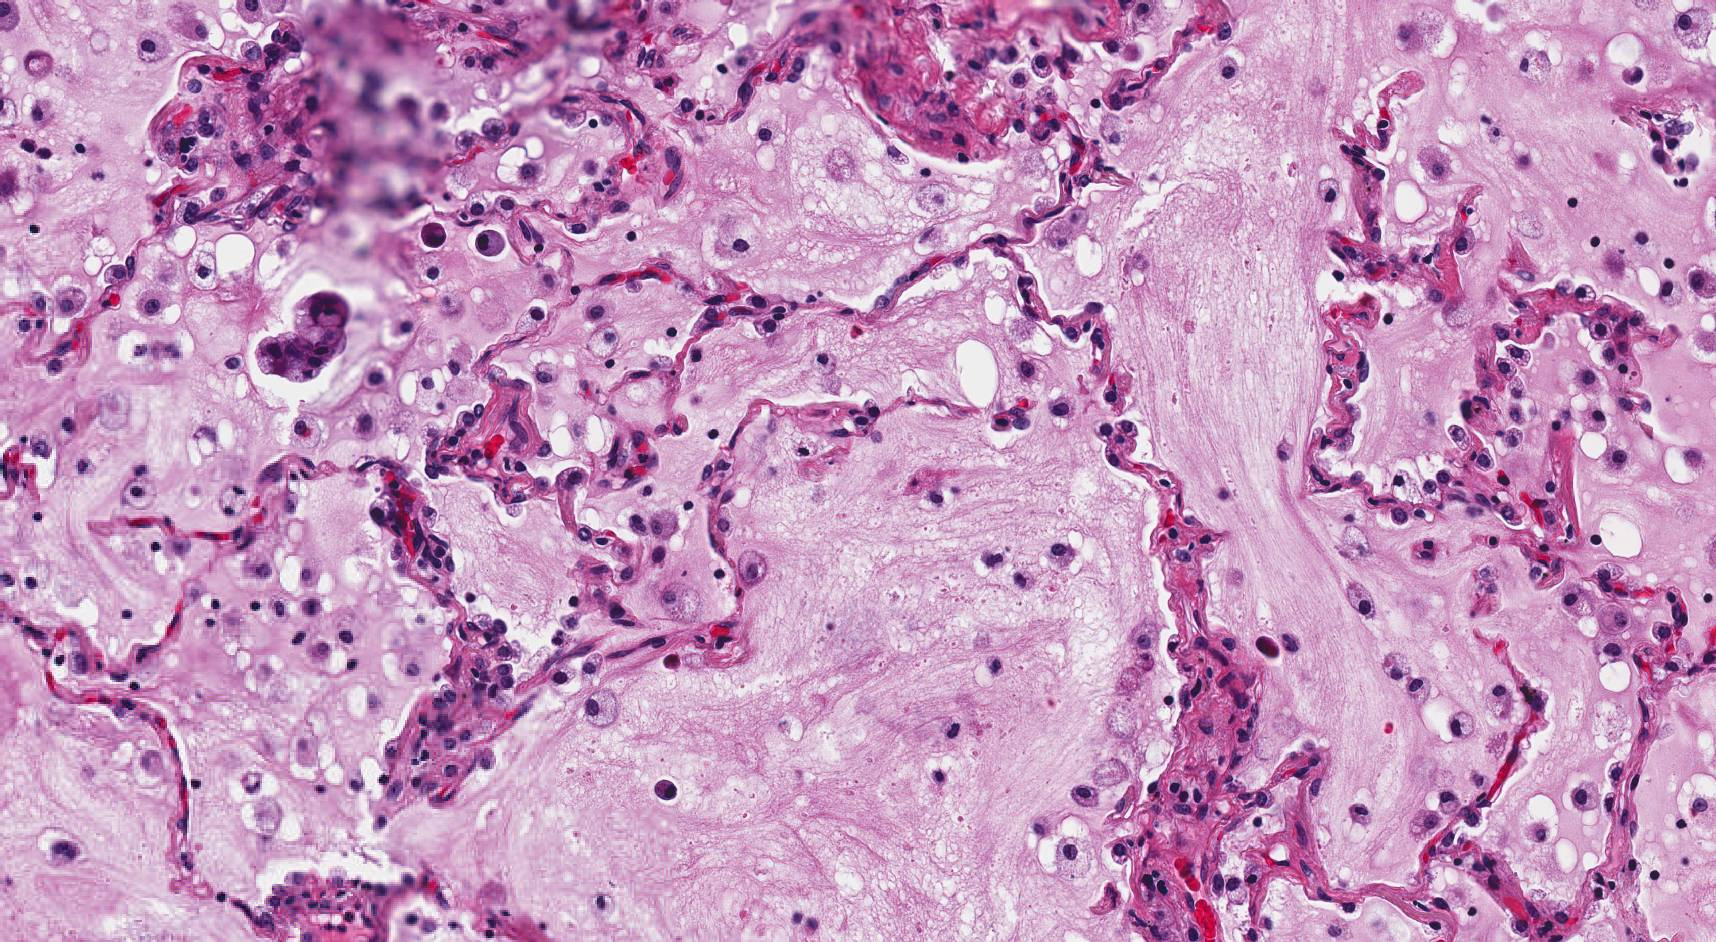stas: (257, 289, 352, 382)
